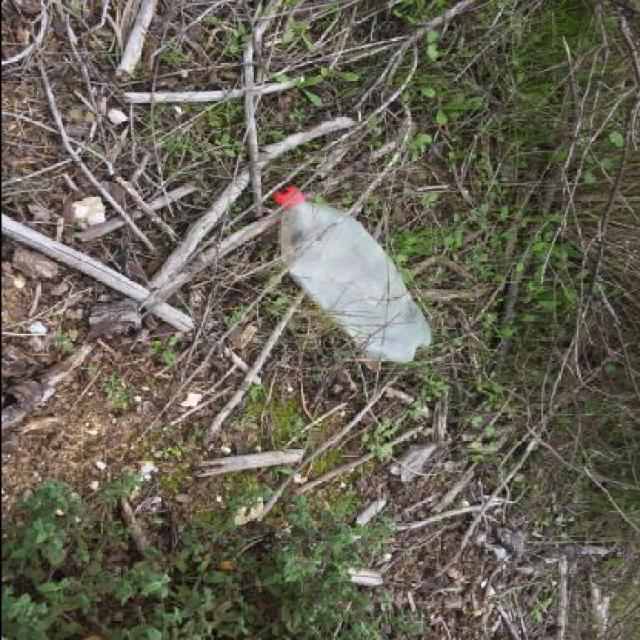plastic: (269, 182, 431, 364)
